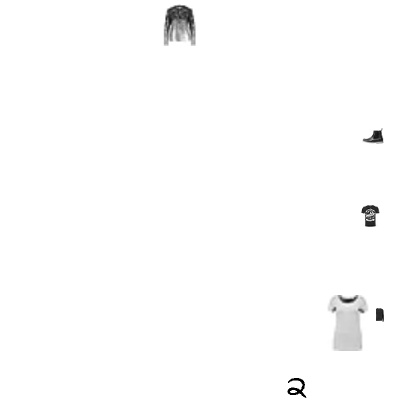2: (283, 373, 311, 401)
Ankle_boot: (362, 125, 384, 147)
Pullover: (372, 308, 386, 322)
Shirt: (158, 4, 200, 46)
T-shirt/top: (320, 295, 376, 351), (359, 205, 381, 227)
